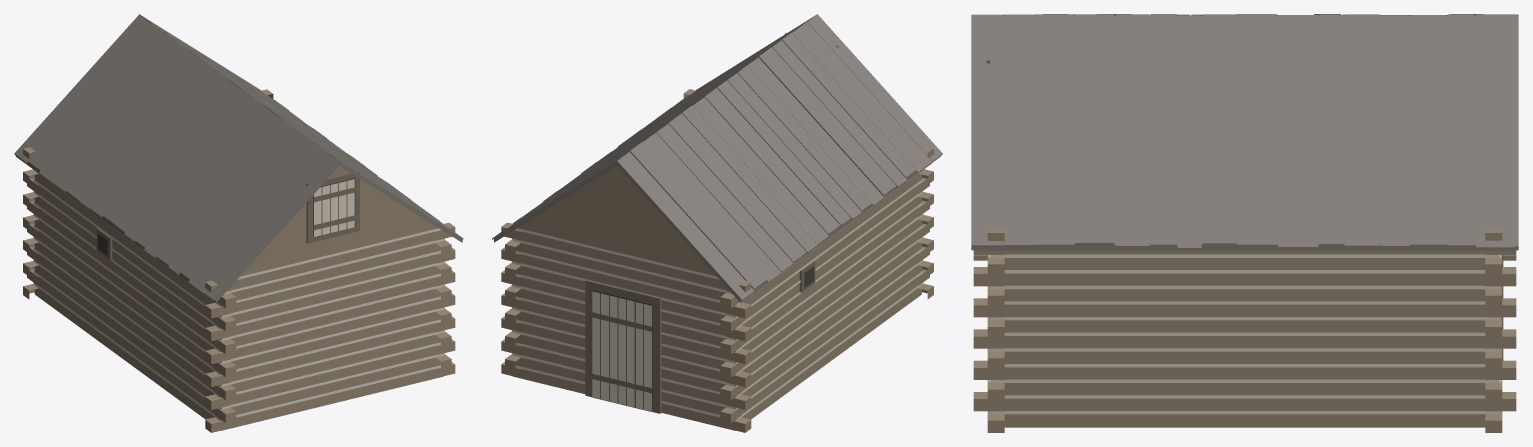
The model's file is recon_1835_blk_south_water_lasalle_a1_14__inferred_1835.glb.
3 views of the same model, side by side, from view 1: azimuth 30°, elevation 25°; view 2: azimuth 150°, elevation 25°; view 3: azimuth 270°, elevation 25° (orthographic). The views are drawn at different scales.
Visible parts, largest first — view 1: recon_1835_blk_south_water_lasalle_a1_14__inferred_1835; view 2: recon_1835_blk_south_water_lasalle_a1_14__inferred_1835; view 3: recon_1835_blk_south_water_lasalle_a1_14__inferred_1835.
Part boxes in pixels (<box>): recon_1835_blk_south_water_lasalle_a1_14__inferred_1835: <box>14,14,463,432</box>; recon_1835_blk_south_water_lasalle_a1_14__inferred_1835: <box>492,14,942,432</box>; recon_1835_blk_south_water_lasalle_a1_14__inferred_1835: <box>971,14,1518,432</box>.
Size of the model in its own units: 5.63 by 5.32 by 7.77.
